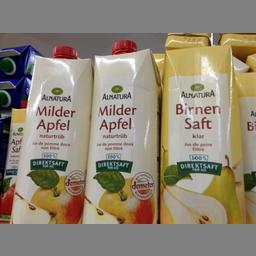juice: (158, 44, 246, 222), (80, 39, 160, 222), (10, 44, 92, 222)
